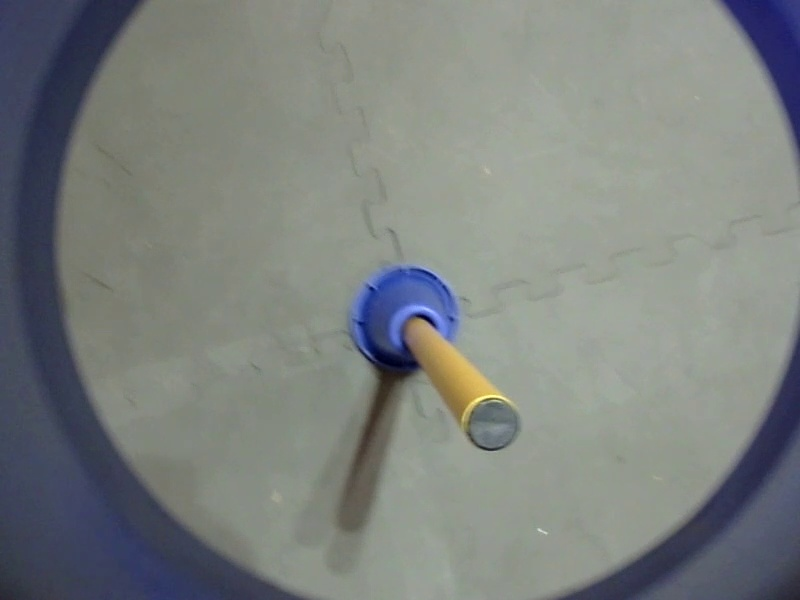tip: (456, 386, 524, 454)
